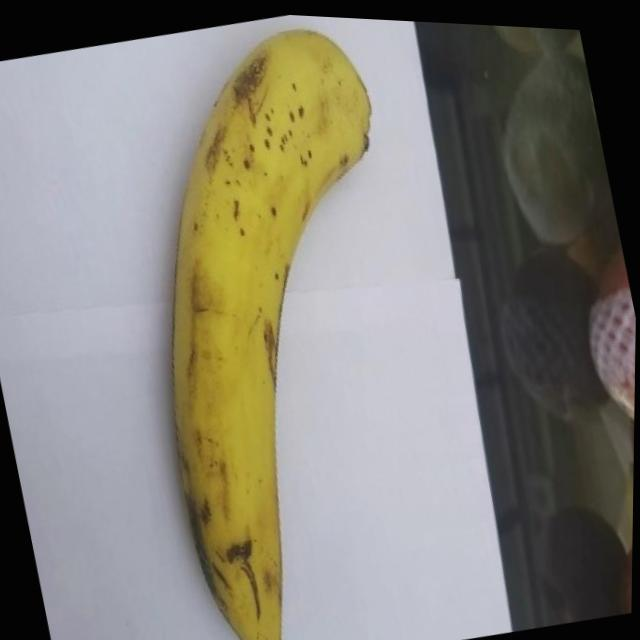Banana: (90, 4, 481, 640)
